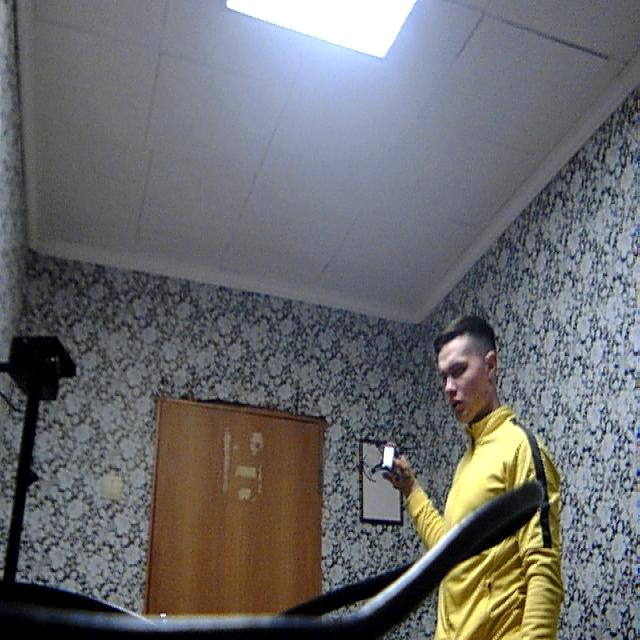drone: (357, 418, 424, 489)
